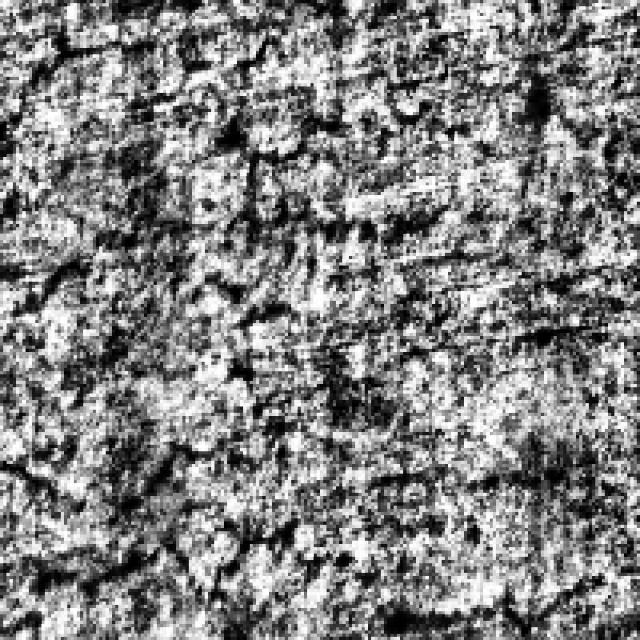Pitted_Surface: (0, 336, 410, 598), (0, 147, 432, 320)
